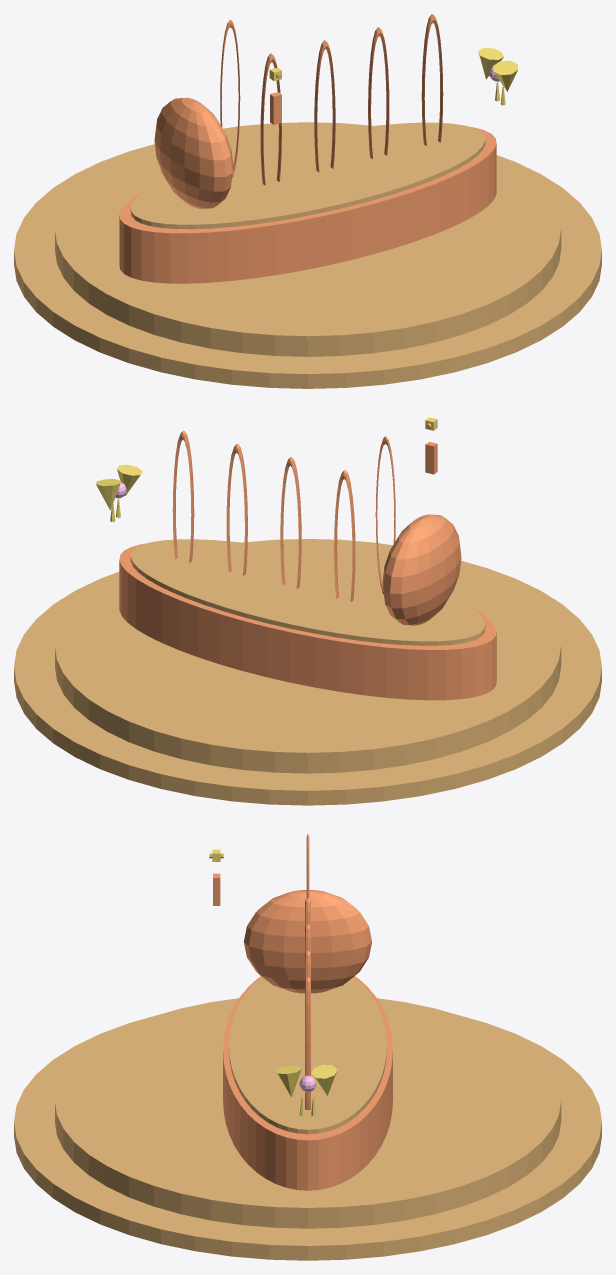
File: trophy_calouro.glb
3 views of the same model, one above another, from view 1: azimuth 30°, elevation 25°; view 2: azimuth 150°, elevation 25°; view 3: azimuth 270°, elevation 25° (orthographic).
Parts seen in each view (by area): view 1: Ped1, Ped2, Sole, Insole, HeelCounter, Strap_2, Strap_1, Strap_0, Strap_3, AnkleStrap, BowWing_-1; view 2: Ped1, Ped2, Sole, Insole, HeelCounter, Strap_2, Strap_3, Strap_1, Strap_0, AnkleStrap; view 3: Ped1, Ped2, Insole, Sole, HeelCounter, Strap_0.
Part boxes in pixels (x1,y1,x2,y2): Ped1: (55,122,561,356); Ped2: (14,144,601,388); Sole: (119,127,496,283); Insole: (130,122,485,229); HeelCounter: (154,97,233,208); Strap_2: (314,40,335,172); Strap_1: (368,27,389,158); Strap_0: (421,14,443,145); Strap_3: (260,53,281,185); AnkleStrap: (220,19,240,177); BowWing_-1: (493,60,518,91); Ped1: (55,539,561,773); Ped2: (14,561,601,805); Sole: (119,543,496,700); Insole: (130,539,485,645); HeelCounter: (382,514,461,625); Strap_2: (280,457,301,588); Strap_3: (334,470,355,601); Strap_1: (226,444,247,575); Strap_0: (172,430,194,562); AnkleStrap: (375,436,395,594); Ped1: (55,998,561,1228); Ped2: (14,1016,601,1260); Insole: (229,977,386,1134); Sole: (223,976,392,1190); HeelCounter: (244,890,371,993); Strap_0: (305,977,310,1109).
Bounding box in the file's own units: 3.6 × 1.79 × 3.6.
